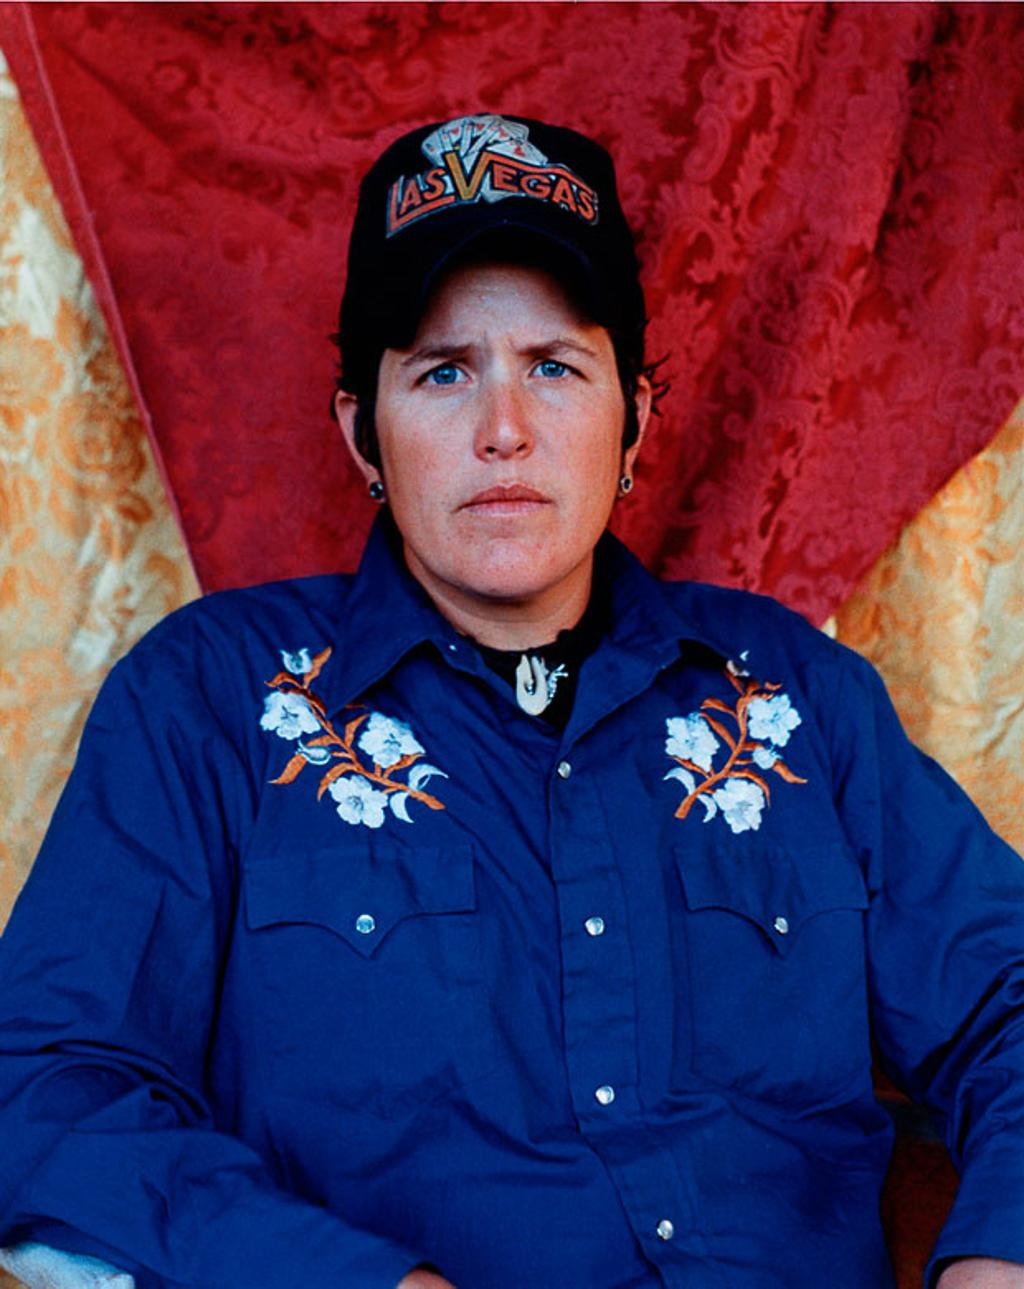face: (382, 294, 621, 598)
